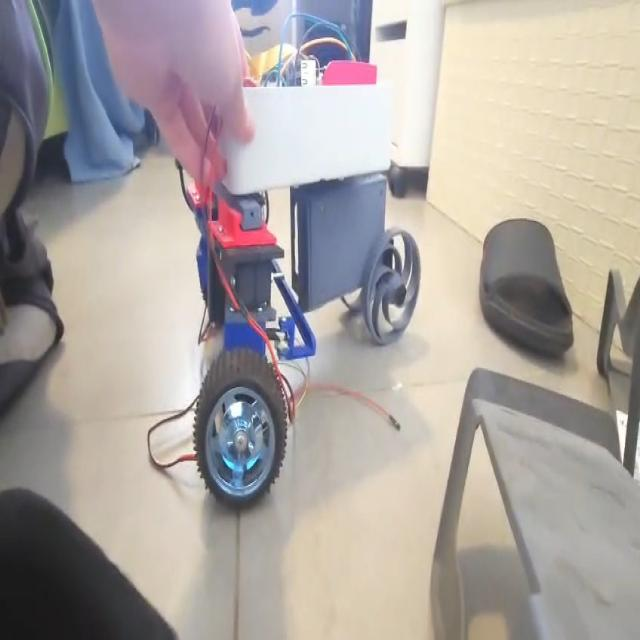Robot: (186, 50, 422, 513)
